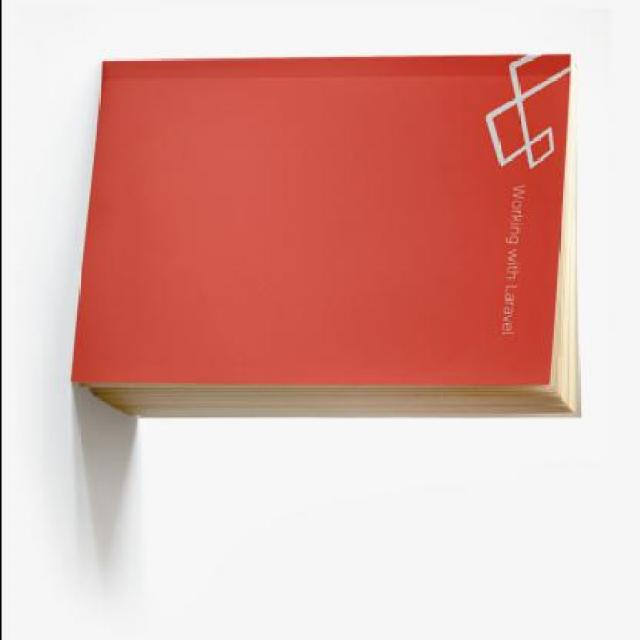book: (70, 23, 598, 494)
